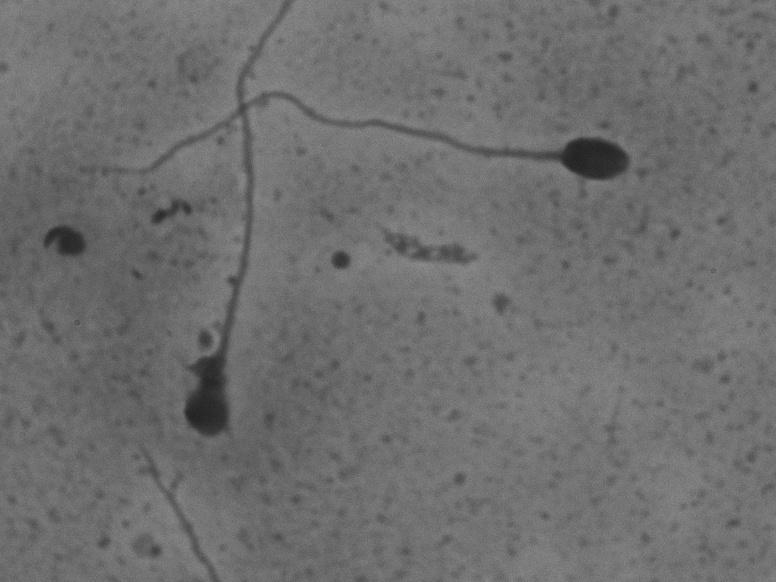Abnormal: (162, 3, 310, 467)
Normal: (72, 73, 662, 230)
